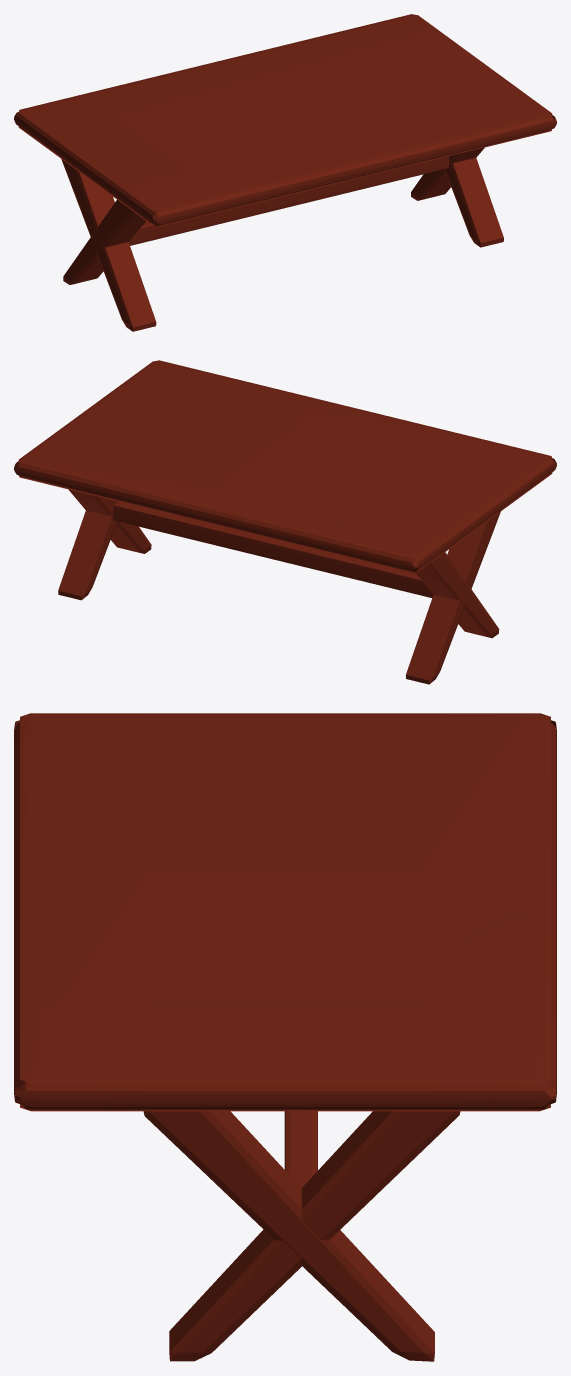
The model's file is mesaFesta.FBX.
3 views of the same model, one above another, from view 1: azimuth 30°, elevation 25°; view 2: azimuth 150°, elevation 25°; view 3: azimuth 270°, elevation 25° (orthographic). The views are drawn at different scales.
Parts seen in each view (by area): view 1: Box002; view 2: Box002; view 3: Box002.
Part boxes in pixels (x1=…): Box002: x1=14, y1=14, x2=556, y2=331; Box002: x1=14, y1=360, x2=556, y2=684; Box002: x1=14, y1=713, x2=556, y2=1361.
Bounding box in the file's own units: 135 × 48.79 × 82.62.
